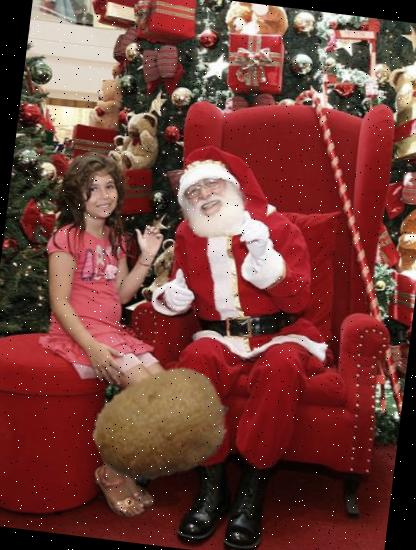Kiwi: (85, 350, 238, 504)
